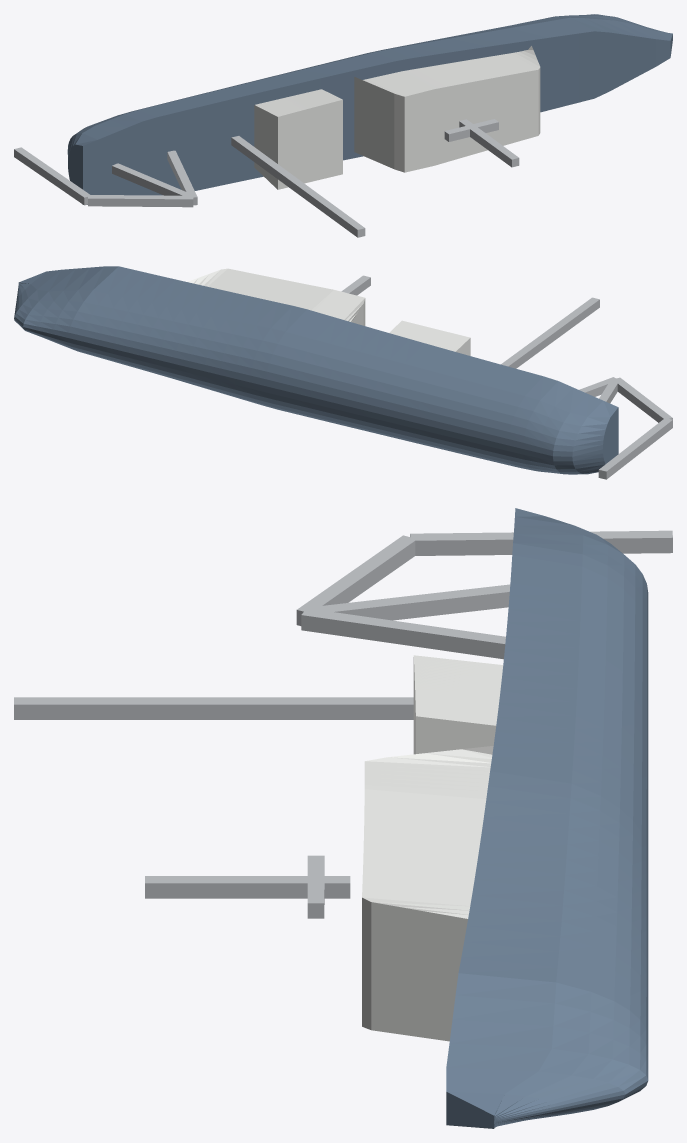
The model's file is loft-mine-clearance-slender.glb.
The picture shows the model from 3 angles, top to bottom: view 1: azimuth 30°, elevation 25°; view 2: azimuth 150°, elevation 25°; view 3: azimuth 270°, elevation 25°; orthographic projection. The views are drawn at different scales.
Parts seen in each view (by area): view 1: loft-mine-clearance-slender; view 2: loft-mine-clearance-slender; view 3: loft-mine-clearance-slender.
Boxes of the visible parts, x1,y1,x2,y2 form: loft-mine-clearance-slender: (14,14,672,237); loft-mine-clearance-slender: (14,266,672,479); loft-mine-clearance-slender: (14,508,672,1128).
Size of the model in its own units: 1.96 by 0.2715 by 0.9354.
